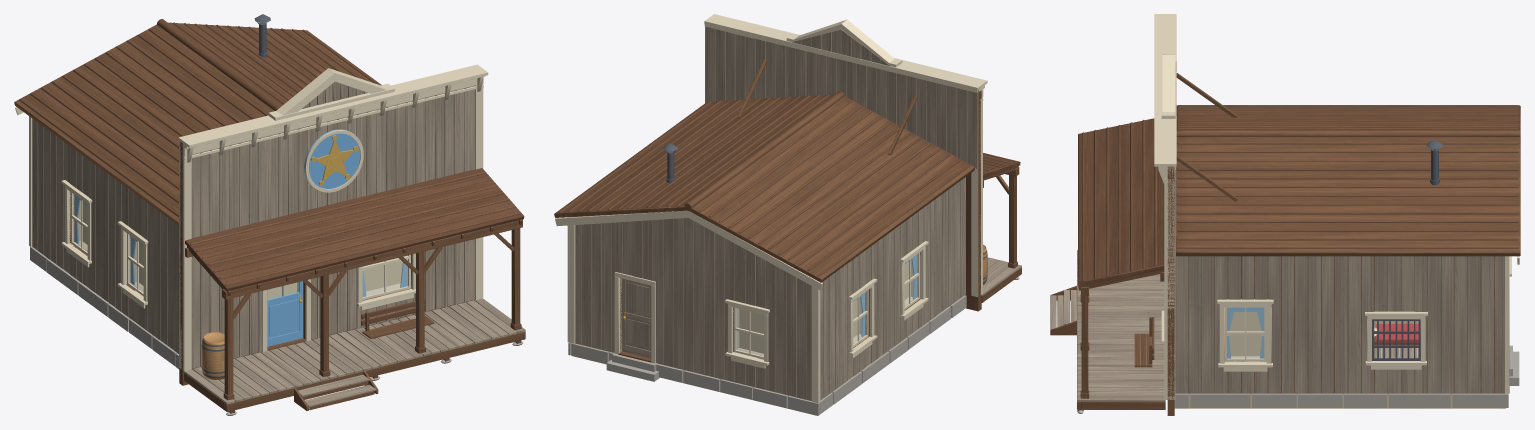
Rendered from sheriff-office.glb.
3 renders of one model, left to right at view 1: azimuth 30°, elevation 25°; view 2: azimuth 150°, elevation 25°; view 3: azimuth 270°, elevation 25°, orthographic. The views are drawn at different scales.
Visible parts, largest first — view 1: sheriff-office_boards, sheriff-office_body, sheriff-office_trim, sheriff-office_glass; view 2: sheriff-office_boards, sheriff-office_body, sheriff-office_trim, sheriff-office_glass; view 3: sheriff-office_body, sheriff-office_boards, sheriff-office_trim, sheriff-office_glass.
Part boxes in pixels (x1,y1,x2,y2): sheriff-office_boards: [32, 82, 525, 413]; sheriff-office_body: [14, 19, 524, 385]; sheriff-office_trim: [15, 14, 523, 415]; sheriff-office_glass: [74, 195, 407, 299]; sheriff-office_boards: [575, 26, 1021, 400]; sheriff-office_body: [554, 89, 1020, 415]; sheriff-office_trim: [555, 14, 1019, 415]; sheriff-office_glass: [736, 254, 917, 356]; sheriff-office_body: [1078, 105, 1520, 415]; sheriff-office_boards: [1050, 61, 1504, 410]; sheriff-office_trim: [1077, 14, 1519, 413]; sheriff-office_glass: [1227, 308, 1263, 358].
Size of the model in its own units: 8 by 7.12 by 10.6.
22 materials, 8 textured.
